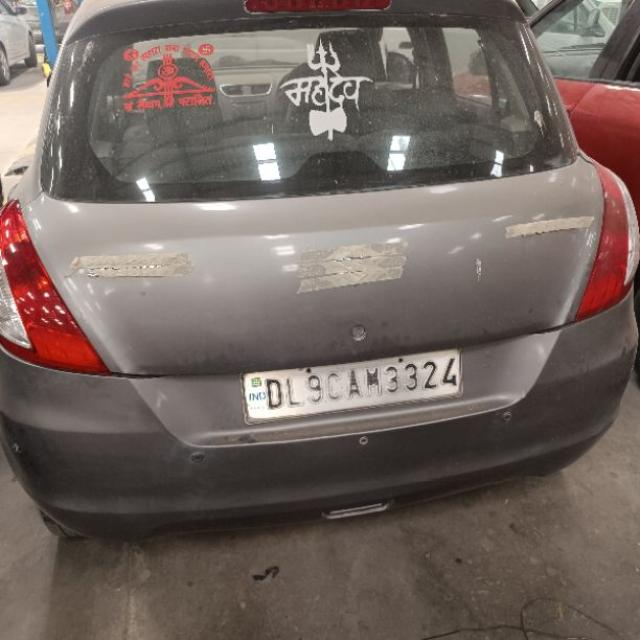license_plate: (240, 346, 464, 425)
